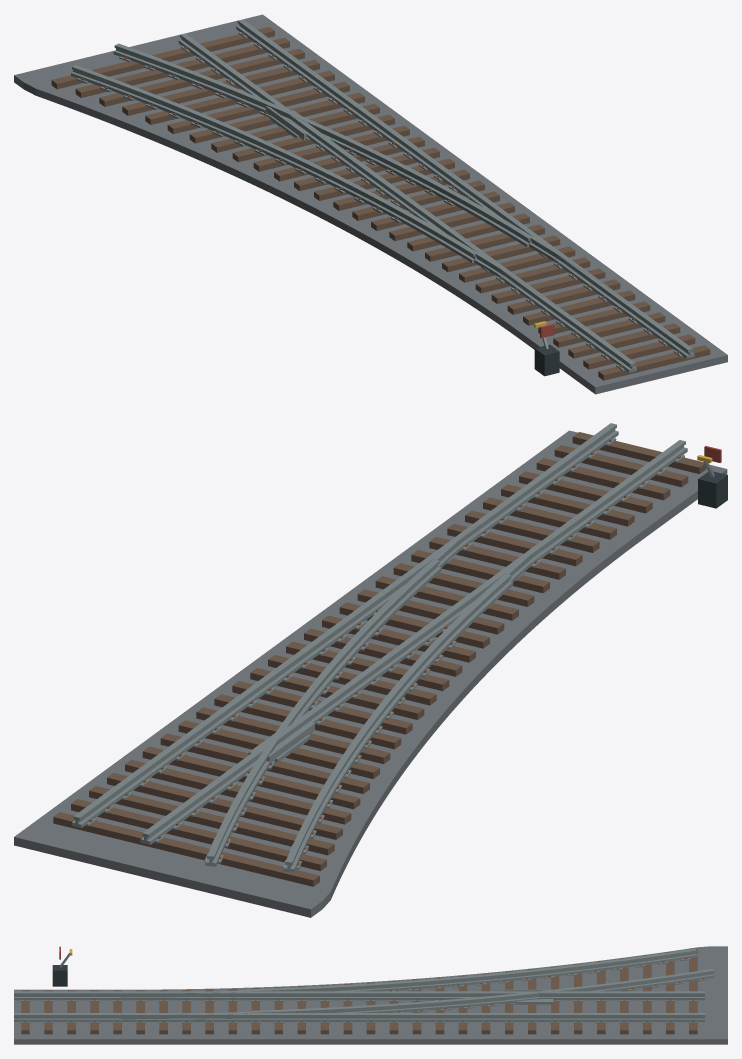
File: DeadRail_TrackTurnout_Left.fbx
3 views of the same model, one above another, from view 1: azimuth 30°, elevation 25°; view 2: azimuth 150°, elevation 25°; view 3: azimuth 270°, elevation 25° (orthographic). The views are drawn at different scales.
Visible parts, largest first — view 1: TrackTurnout_Left_Mesh.002, TrackTurnout_Left_SwitchBlades_Mesh.002, Switch_Lever_Base.005; view 2: TrackTurnout_Left_Mesh.002, TrackTurnout_Left_SwitchBlades_Mesh.002, Switch_Lever_Base.005; view 3: TrackTurnout_Left_Mesh.002, TrackTurnout_Left_SwitchBlades_Mesh.002, Switch_Lever_Base.005.
Boxes of the visible parts, x1,y1,x2,y2 form: TrackTurnout_Left_Mesh.002: (14,14,727,394); TrackTurnout_Left_SwitchBlades_Mesh.002: (474,236,622,311); Switch_Lever_Base.005: (534,344,559,376); TrackTurnout_Left_Mesh.002: (14,423,727,917); TrackTurnout_Left_SwitchBlades_Mesh.002: (431,484,596,581); Switch_Lever_Base.005: (698,471,727,508); TrackTurnout_Left_Mesh.002: (14,946,727,1044); TrackTurnout_Left_SwitchBlades_Mesh.002: (120,990,250,1019); Switch_Lever_Base.005: (52,965,67,986).
Size of the model in its own units: 6.19 by 1.22 by 20.07.
